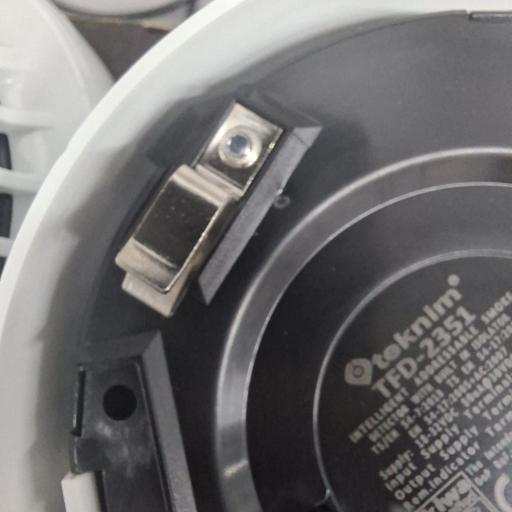yayli: (112, 100, 286, 316)
